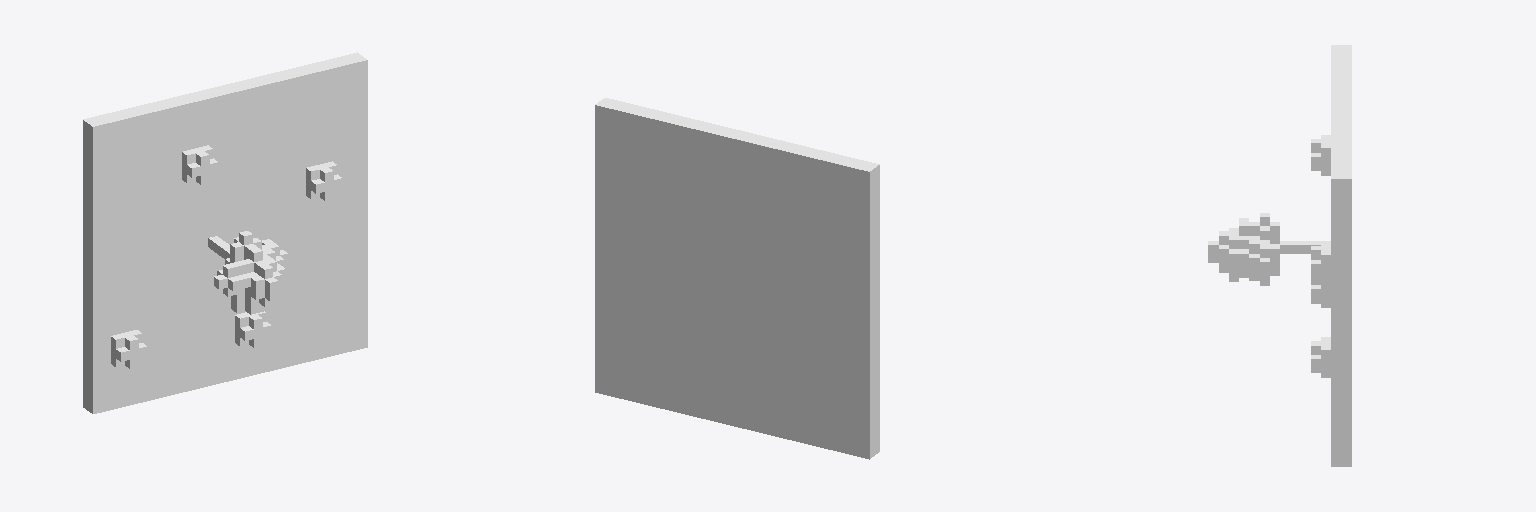
Rendered from Park2.obj.
3 views of the same model, side by side, from view 1: azimuth 30°, elevation 25°; view 2: azimuth 150°, elevation 25°; view 3: azimuth 270°, elevation 25° (orthographic).
Visible parts, largest first — view 1: Park2; view 2: Park2; view 3: Park2.
Boxes of the visible parts, <box> form: Park2: <box>83,52,367,413</box>; Park2: <box>595,98,879,459</box>; Park2: <box>1208,45,1351,466</box>.
Size of the model in its own units: 31 by 31 by 14.